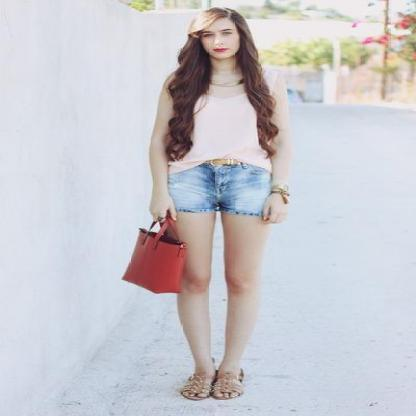bag: (121, 209, 196, 293)
shirt: (168, 95, 266, 172)
shoe: (178, 366, 246, 400)
shorts: (171, 158, 270, 217)
